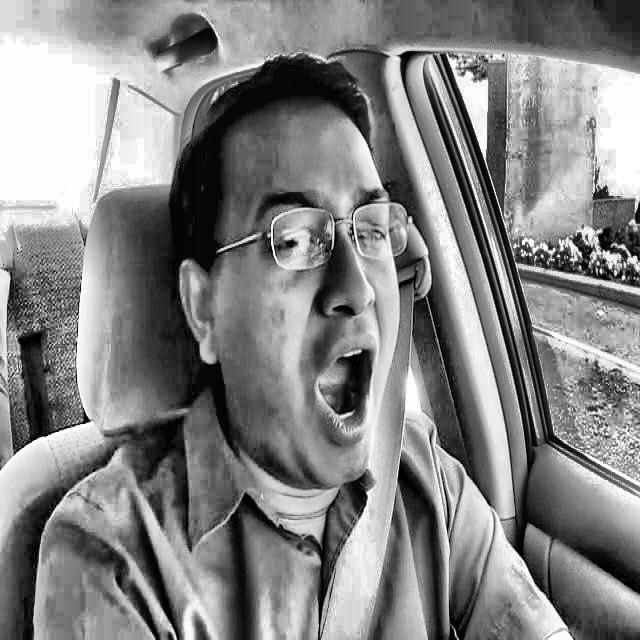open_mouth: (301, 325, 396, 460)
